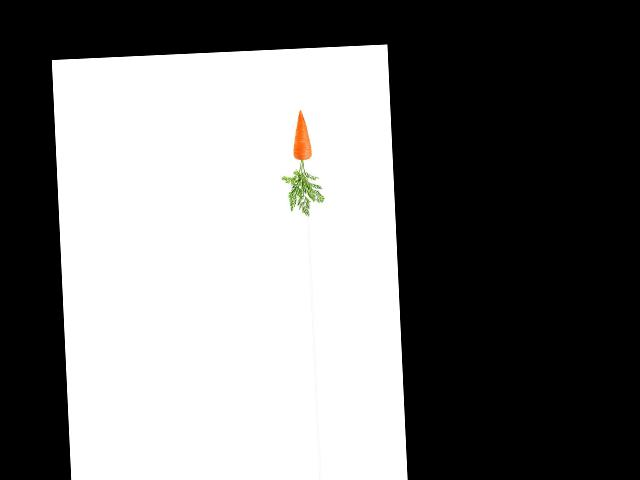carrot: (285, 108, 316, 162)
